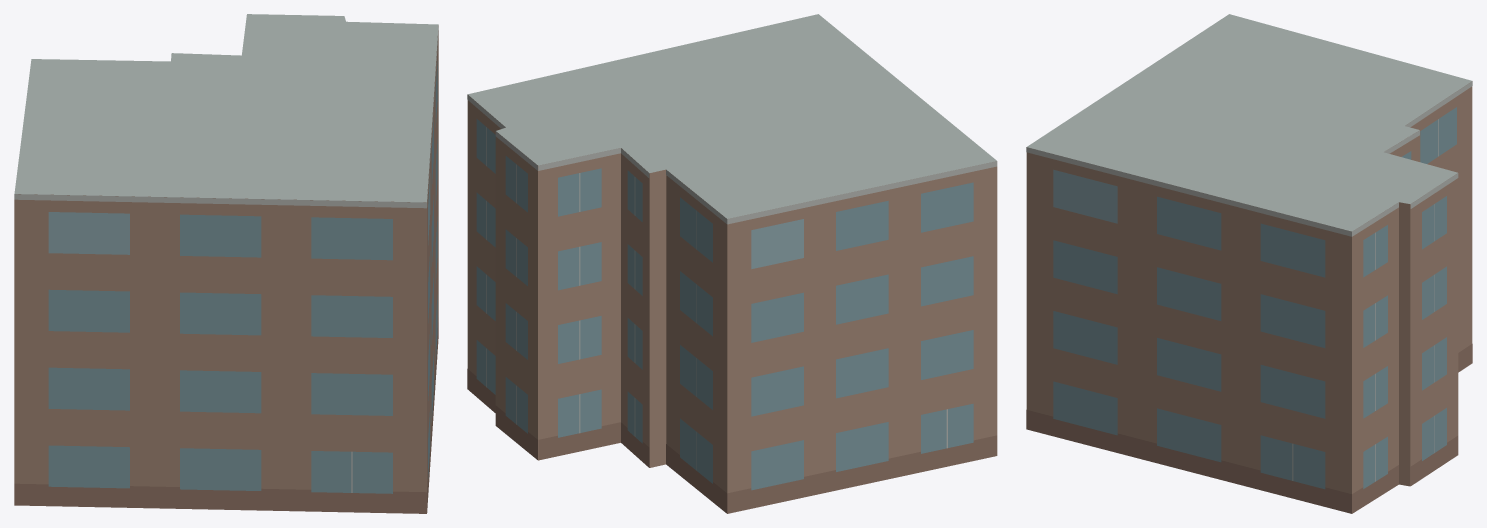
File: survey-upis-32676876.glb
3 views of the same model, side by side, from view 1: azimuth 30°, elevation 25°; view 2: azimuth 150°, elevation 25°; view 3: azimuth 270°, elevation 25° (orthographic). The views are drawn at different scales.
Visible parts, largest first — view 1: survey-upis-32676876.tmp; view 2: survey-upis-32676876.tmp; view 3: survey-upis-32676876.tmp.
Boxes of the visible parts, <box> form: survey-upis-32676876.tmp: <box>14,14,438,513</box>; survey-upis-32676876.tmp: <box>467,14,997,513</box>; survey-upis-32676876.tmp: <box>1026,14,1472,513</box>.
Bounding box in the file's own units: 21.83 × 13.2 × 18.9.
